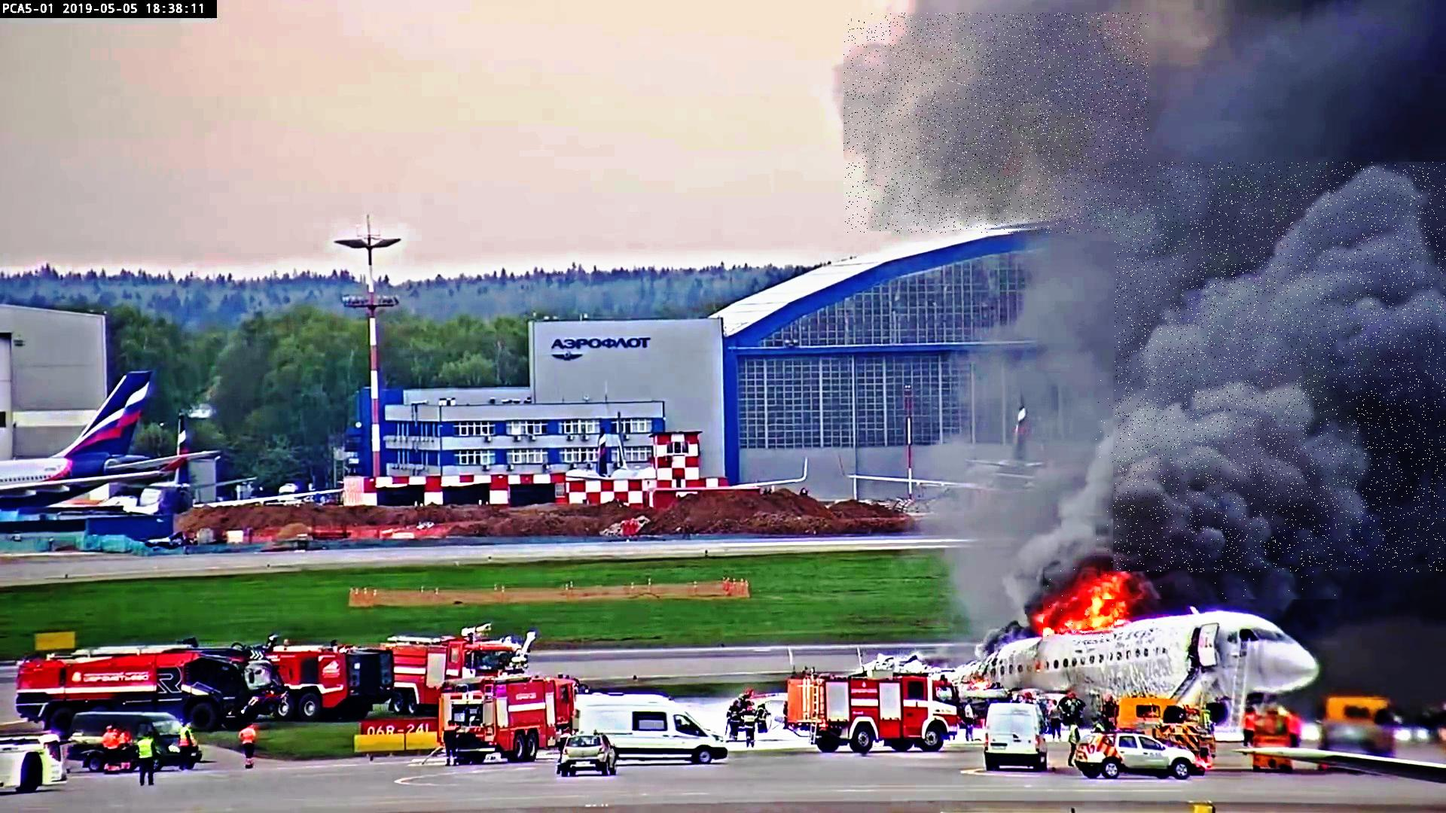fire: (1044, 567, 1121, 642)
smoke: (1115, 162, 1446, 572), (844, 13, 1149, 234), (1096, 375, 1352, 599)
